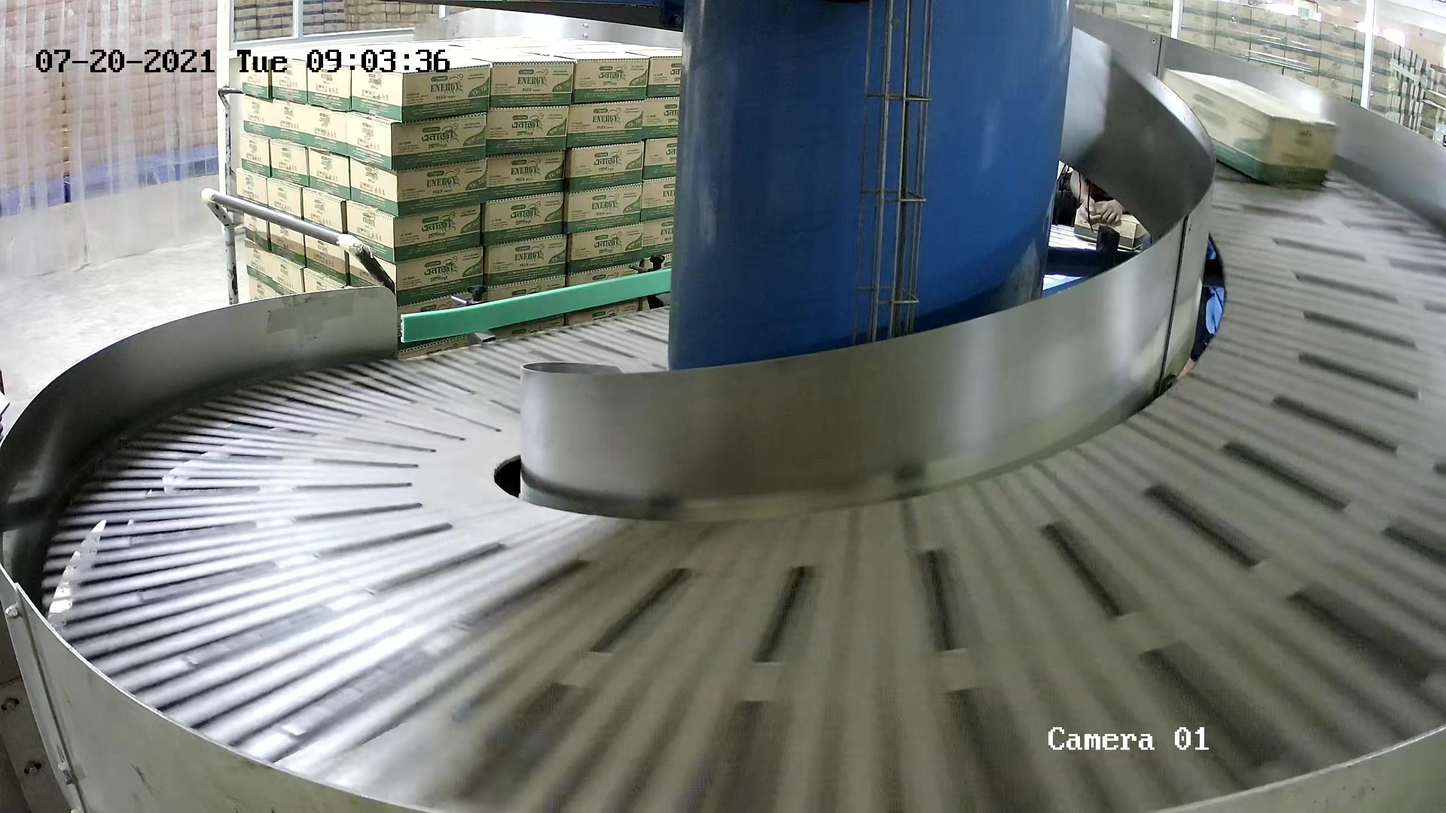Box: (1155, 64, 1340, 188)
